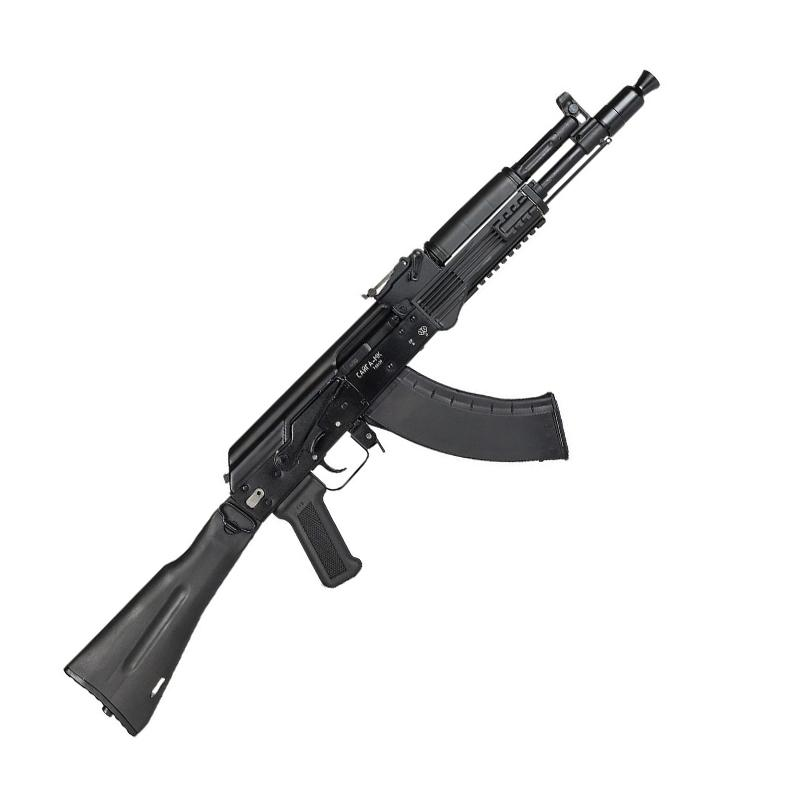larga: (62, 70, 661, 737)
